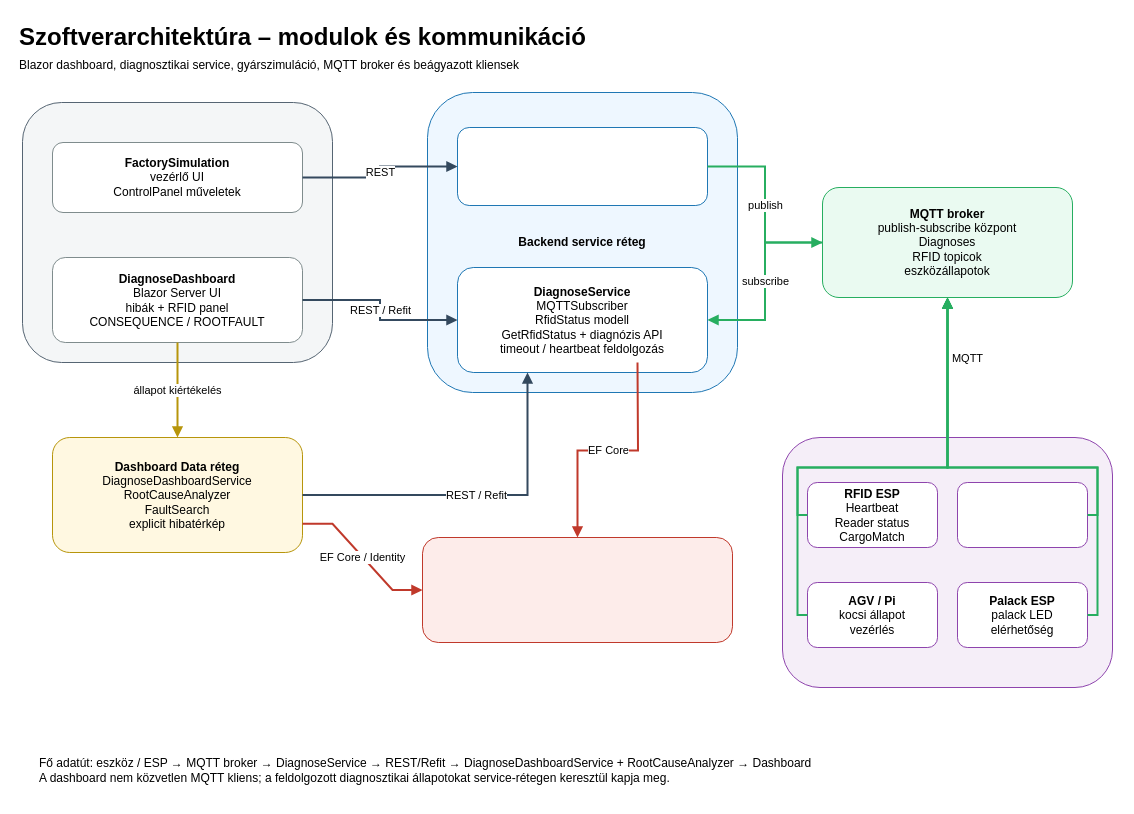
Some shapes in this 1134 by 814 pixel diagram are drawn without their labels. The box of each missing label's shape, as (x1, y1, x2, y2) in pixels:
FactoryService REST API gyárszimulációs állapotok diagnózis publikálás: (456, 126, 708, 206)
Felhasználói felület: (22, 102, 332, 362)
MQTT kliensek / eszközök: (782, 436, 1112, 688)
SQL Server adatbázis ASP.NET Identity hibaadatok / FaultData migrációk: (422, 536, 732, 642)
Tartály ESP LED + állapot offline hiba: (956, 482, 1088, 548)
